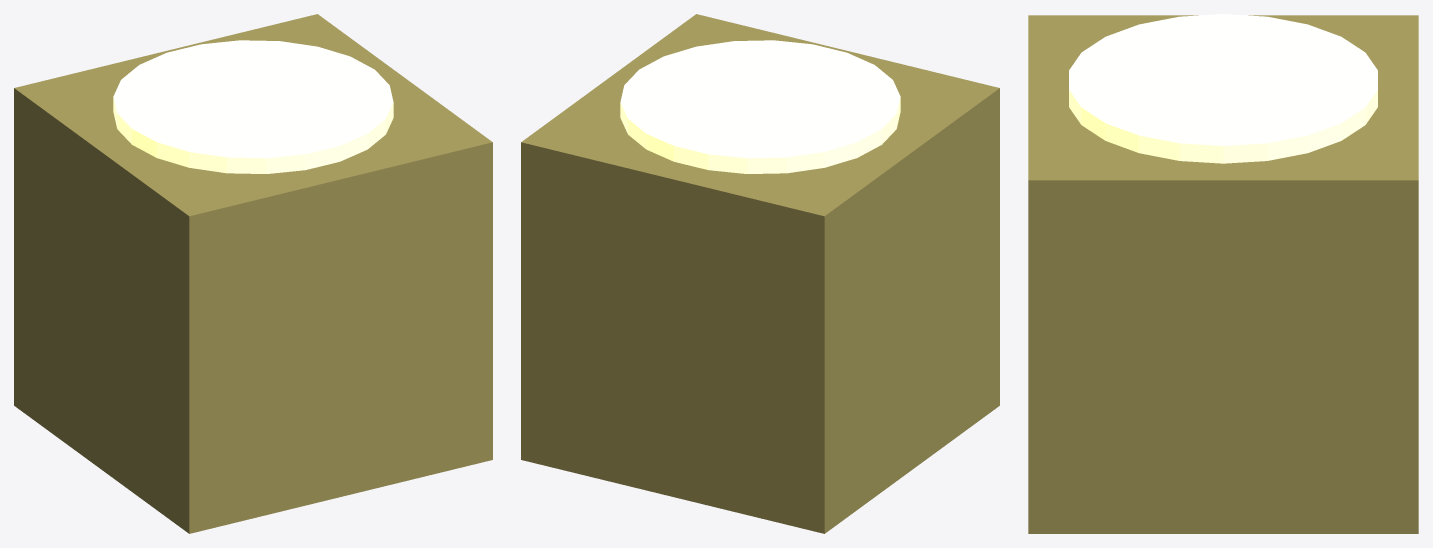
The model's file is Goal_Full.glb.
3 renders of one model, left to right at view 1: azimuth 30°, elevation 25°; view 2: azimuth 150°, elevation 25°; view 3: azimuth 270°, elevation 25°, orthographic. The views are drawn at different scales.
Visible parts, largest first — view 1: Goal_Full_body, glow_disc; view 2: Goal_Full_body, glow_disc; view 3: Goal_Full_body, glow_disc.
Boxes of the visible parts, <box> form: Goal_Full_body: <box>14,14,492,533</box>; glow_disc: <box>113,40,393,173</box>; Goal_Full_body: <box>521,14,999,533</box>; glow_disc: <box>620,40,900,173</box>; Goal_Full_body: <box>1028,15,1418,533</box>; glow_disc: <box>1069,14,1377,163</box>.
Bounding box in the file's own units: 1 × 1.05 × 1.
